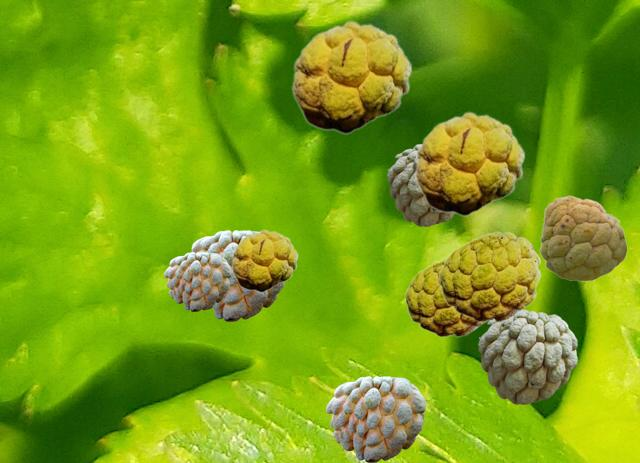atis: (291, 20, 411, 133), (414, 111, 524, 215), (478, 309, 576, 403), (438, 231, 540, 321), (191, 230, 285, 320), (326, 376, 424, 461), (539, 195, 626, 280), (404, 257, 486, 336), (387, 144, 454, 225), (231, 229, 297, 291), (164, 252, 230, 310)
